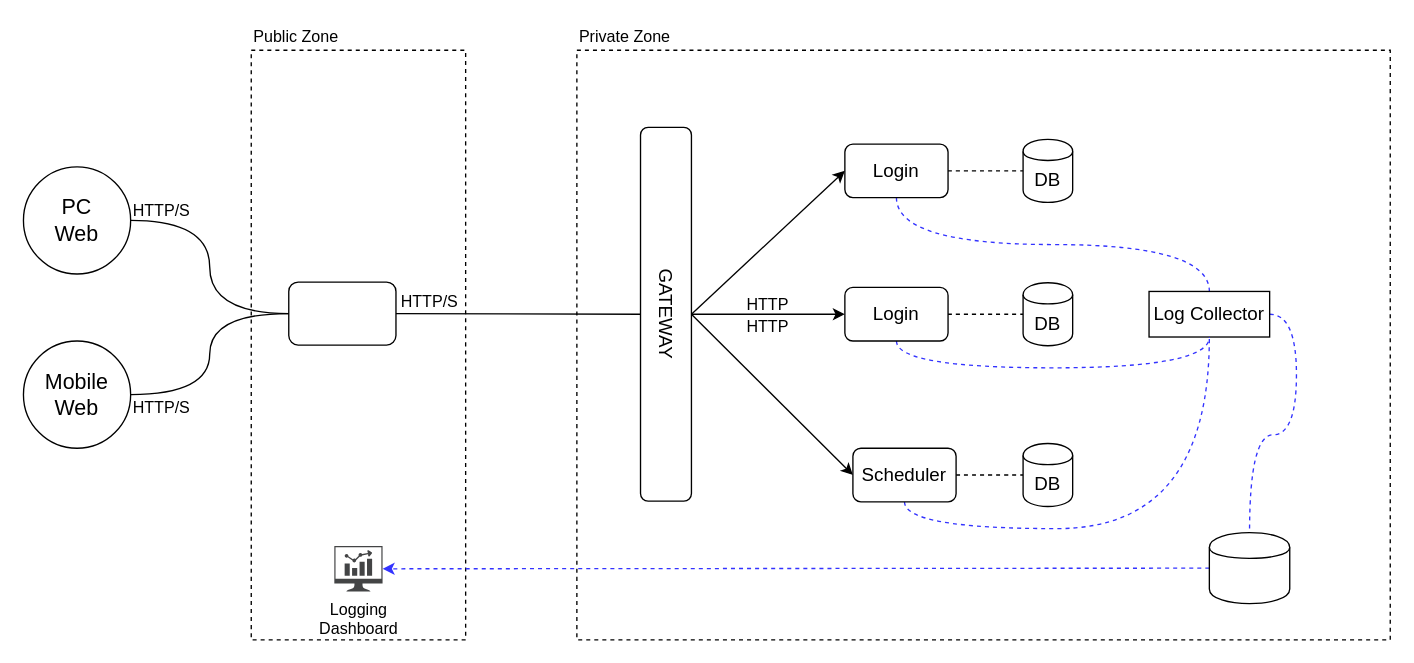
The diagram is 1414 pixels wide and 663 high, and some of its shapes have lost their labels. Each missing label, with the centre of its shape:
"Log Storage" belongs at (x=1249, y=567).
"Webapp" belongs at (x=341, y=313).
